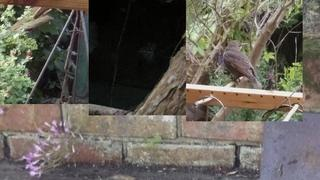starling: (223, 40, 263, 89)
